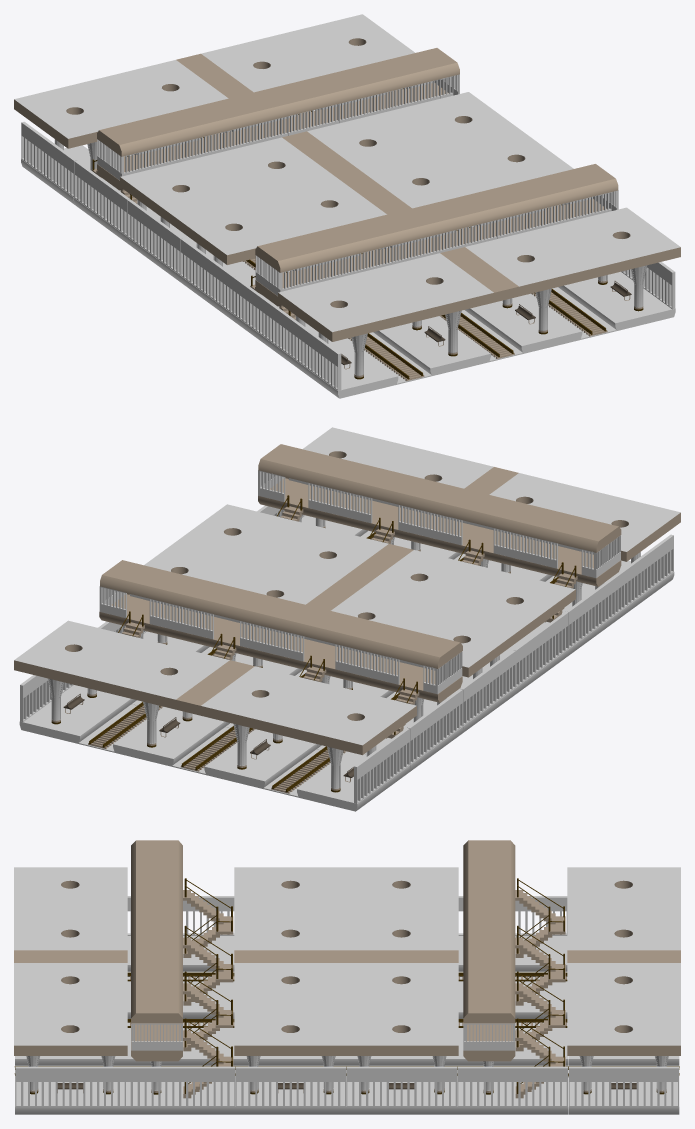
Rendered from kharghar station.fbx.
The picture shows the model from 3 angles, top to bottom: view 1: azimuth 30°, elevation 25°; view 2: azimuth 150°, elevation 25°; view 3: azimuth 270°, elevation 25°; orthographic projection. The views are drawn at different scales.
Parts seen in each view (by area): view 1: polySurface62, polySurface60, polySurface331, polySurface848, polySurface689, polySurface438, polySurface314, polySurface421, polySurface323, polySurface330, polySurface310, polySurface692 (+22 smaller); view 2: polySurface62, polySurface60, polySurface848, polySurface689, polySurface438, polySurface421, polySurface851, polySurface692, polySurface331, polySurface314, polySurface113, polySurface439 (+12 smaller); view 3: polySurface62, polySurface60, polySurface331, polySurface438, polySurface314, polySurface421, polySurface689, polySurface848, polySurface420, polySurface94, polySurface313, polySurface197 (+18 smaller).
Boxes of the visible parts, box(x1,y1,x2,y2) form: polySurface62: box(14, 14, 415, 205); polySurface60: box(120, 92, 521, 282); polySurface331: box(278, 247, 519, 341); polySurface848: box(255, 164, 618, 272); polySurface689: box(97, 48, 459, 156); polySurface438: box(173, 171, 411, 264); polySurface314: box(465, 207, 680, 296); polySurface421: box(361, 130, 573, 208); polySurface323: box(465, 294, 597, 358); polySurface330: box(376, 316, 508, 379); polySurface310: box(558, 271, 675, 335); polySurface692: box(97, 83, 448, 190); polySurface62: box(14, 620, 416, 811); polySurface60: box(127, 543, 522, 733); polySurface848: box(258, 444, 621, 552); polySurface689: box(100, 560, 462, 668); polySurface438: box(335, 544, 575, 637); polySurface421: box(174, 504, 388, 583); polySurface851: box(258, 478, 621, 586); polySurface692: box(99, 594, 462, 702); polySurface331: box(464, 467, 680, 561); polySurface314: box(285, 427, 493, 488); polySurface113: box(566, 573, 621, 648); polySurface439: box(513, 611, 568, 686); polySurface62: box(567, 867, 680, 1114); polySurface60: box(345, 867, 458, 1114); polySurface331: box(14, 867, 127, 962); polySurface438: box(234, 867, 347, 962); polySurface314: box(14, 963, 127, 1055); polySurface421: box(234, 963, 347, 1055); polySurface689: box(463, 840, 515, 1023); polySurface848: box(131, 840, 182, 1023); polySurface420: box(235, 1066, 345, 1106); polySurface94: box(125, 1066, 235, 1106); polySurface313: box(15, 1066, 125, 1106); polySurface197: box(457, 1066, 567, 1106).
Size of the model in its own units: 288 by 76.07 by 455.
